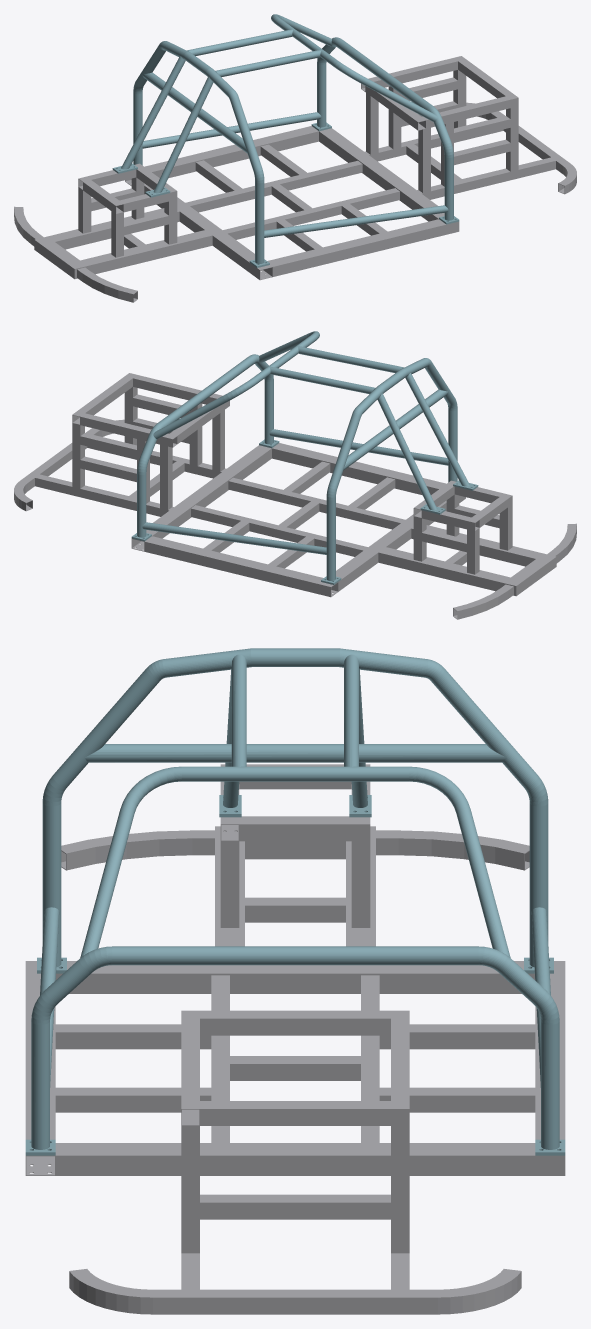
The model's file is voltaris-chassis.glb.
3 views of the same model, one above another, from view 1: azimuth 30°, elevation 25°; view 2: azimuth 150°, elevation 25°; view 3: azimuth 270°, elevation 25° (orthographic). The views are drawn at different scales.
Parts seen in each view (by area): view 1: Sasi, Rollbar; view 2: Sasi, Rollbar; view 3: Sasi, Rollbar.
Boxes of the visible parts, box(x1,y1,x2,y2) form: Sasi: box(14, 56, 576, 302); Rollbar: box(112, 14, 459, 267); Sasi: box(14, 373, 576, 619); Rollbar: box(131, 331, 478, 584); Sasi: box(25, 764, 565, 1314); Rollbar: box(25, 648, 565, 1155).
Bounding box in the file's own units: 2.96 × 0.9964 × 1.44.
